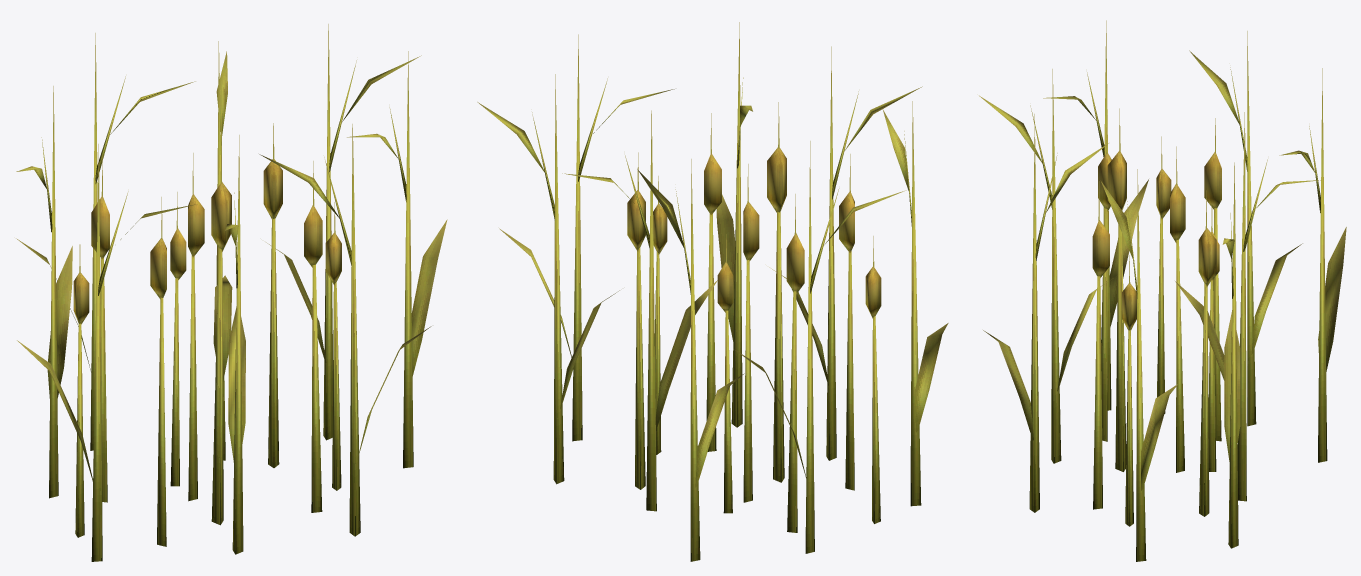
The model's file is n_reed01.glb.
3 views of the same model, side by side, from view 1: azimuth 30°, elevation 25°; view 2: azimuth 150°, elevation 25°; view 3: azimuth 270°, elevation 25° (orthographic). The views are drawn at different scales.
Visible parts, largest first — view 1: n_reed01; view 2: n_reed01; view 3: n_reed01.
Boxes of the visible parts, left/top/right/bottom form: n_reed01: left=16, top=24, right=447, bottom=561; n_reed01: left=477, top=22, right=948, bottom=561; n_reed01: left=979, top=20, right=1346, bottom=561.
Bounding box in the file's own units: 1.22 × 1.1 × 0.9298.
1 material, 1 textured.
